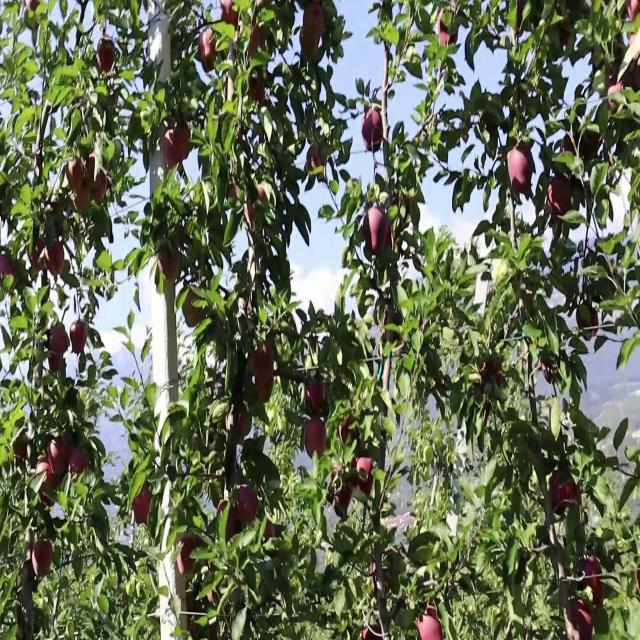apple: (364, 206, 395, 260), (508, 142, 536, 197), (580, 554, 605, 610), (552, 469, 583, 512), (616, 35, 640, 89), (360, 106, 386, 155), (300, 0, 327, 44), (568, 597, 595, 639), (548, 177, 573, 219), (88, 156, 109, 206), (236, 483, 260, 526), (244, 184, 268, 226), (352, 455, 375, 498), (304, 376, 327, 418), (304, 419, 328, 459), (176, 533, 198, 576), (252, 341, 276, 380), (228, 405, 252, 444), (332, 469, 353, 510), (132, 483, 152, 526), (420, 604, 444, 639), (32, 540, 54, 578), (160, 248, 183, 284), (96, 35, 116, 76), (200, 28, 219, 71), (184, 291, 205, 329), (40, 462, 58, 505), (48, 440, 69, 476), (176, 120, 193, 164), (480, 355, 504, 386), (220, 504, 240, 540), (256, 376, 276, 409), (220, 1, 241, 32), (248, 21, 266, 57), (164, 127, 179, 169), (224, 504, 241, 540), (372, 561, 388, 599), (308, 142, 328, 172), (628, 35, 640, 85), (72, 319, 88, 356), (68, 156, 84, 192), (48, 241, 64, 277), (248, 78, 267, 108), (608, 78, 624, 112), (40, 469, 55, 505), (300, 42, 321, 66), (72, 447, 88, 478), (52, 327, 69, 356), (340, 412, 354, 446), (32, 241, 46, 274), (32, 234, 47, 263), (0, 255, 15, 281), (76, 191, 91, 215), (624, 0, 640, 21), (48, 355, 63, 375), (564, 135, 578, 156), (264, 519, 277, 540), (16, 440, 28, 462), (228, 184, 240, 201), (52, 199, 61, 215), (636, 568, 640, 599)
